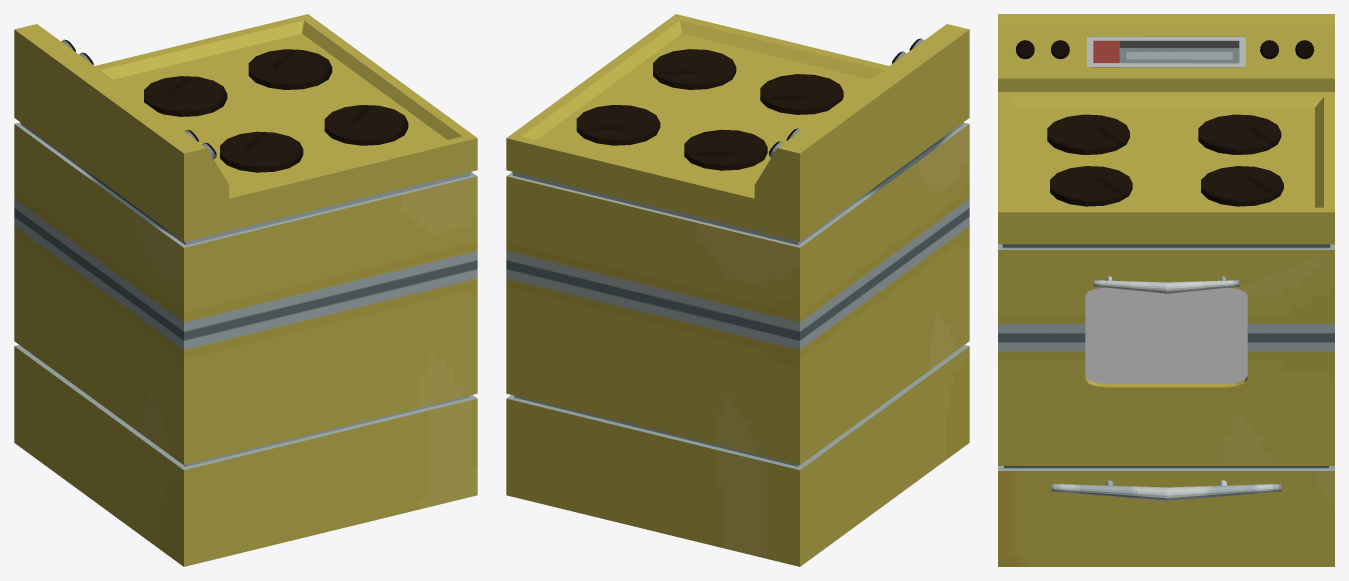
The model's file is fogaogeladeirapronto.fbx.
The picture shows the model from 3 angles, left to right: view 1: azimuth 30°, elevation 25°; view 2: azimuth 150°, elevation 25°; view 3: azimuth 270°, elevation 25°; orthographic projection.
Parts seen in each view (by area): view 1: Fogão.001, Boca; view 2: Fogão.001, Boca; view 3: Fogão.001, Boca, Painel, Handle, Botões.
Boxes of the visible parts, x1,y1,x2,y2 form: Fogão.001: [14, 14, 477, 566]; Boca: [144, 49, 408, 172]; Fogão.001: [506, 14, 969, 566]; Boca: [576, 49, 843, 170]; Fogão.001: [998, 14, 1334, 566]; Boca: [1047, 114, 1283, 206]; Painel: [1087, 36, 1245, 67]; Handle: [1051, 276, 1281, 501]; Botões: [1015, 40, 1314, 59].
Size of the model in its own units: 751 by 915 by 680.
6 materials, 5 textured.
